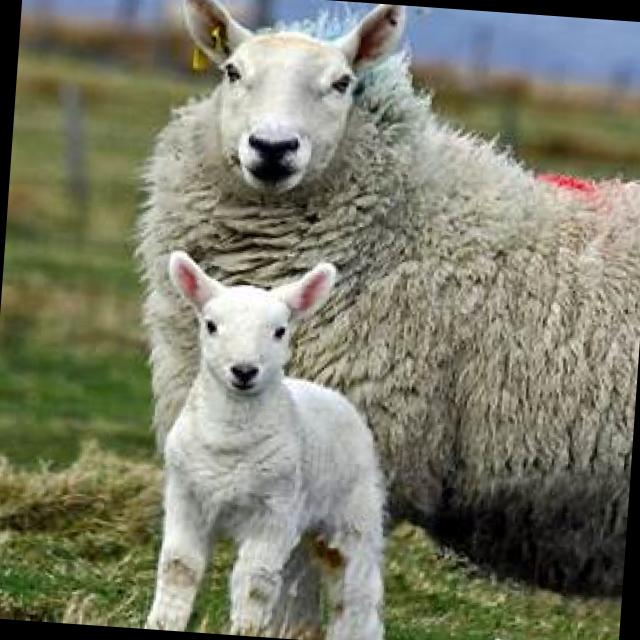animal: (107, 0, 640, 608), (134, 245, 420, 640)
